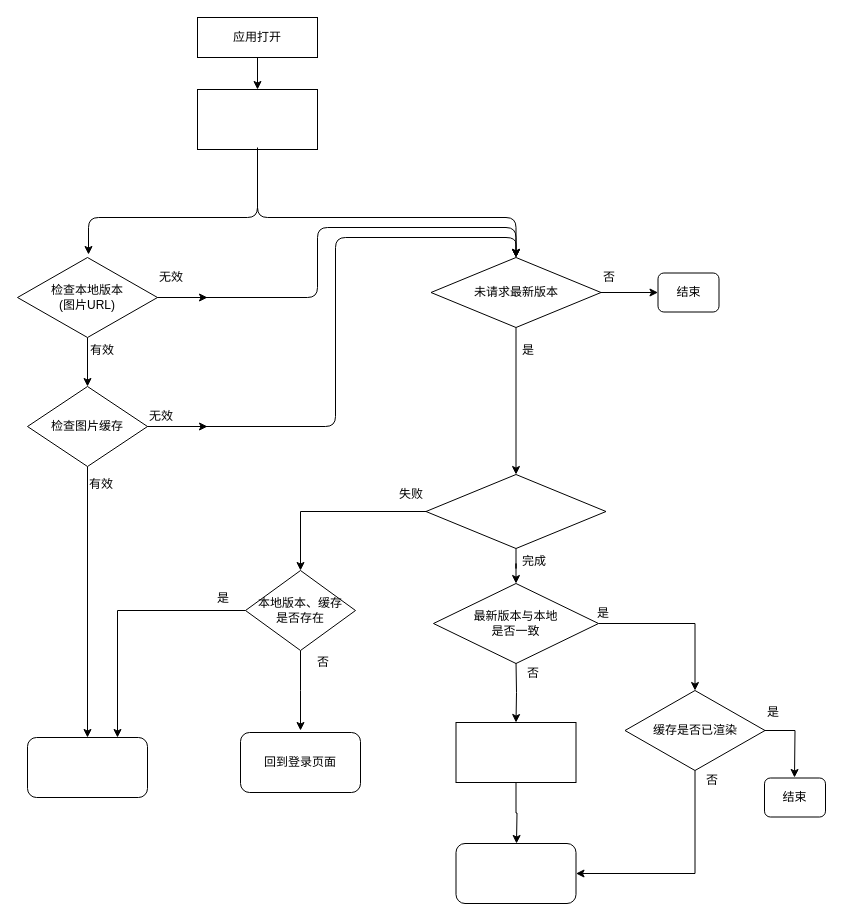
Some shapes in this 843 by 921 pixel diagram are drawn without their labels. The centre of each missing label's shape, as x and y in pixels:
加载、渲染缓存图片: the point at 87,767
加载、渲染网络图片: the point at 515,873
更新缓存: the point at 515,752
登录: the point at 257,119
请求最新版本: the point at 515,511
